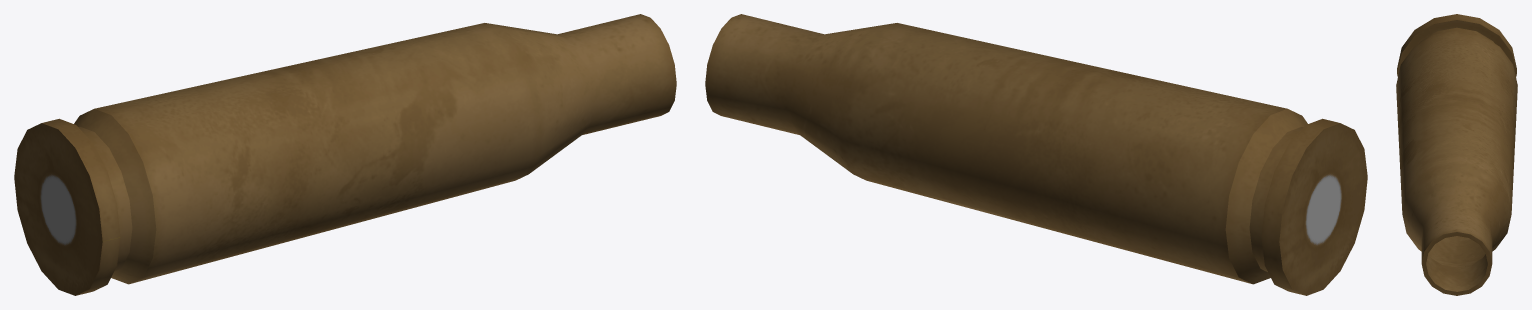
The model's file is vfe-rifle-short.fbx.
3 views of the same model, side by side, from view 1: azimuth 30°, elevation 25°; view 2: azimuth 150°, elevation 25°; view 3: azimuth 270°, elevation 25° (orthographic). The views are drawn at different scales.
Parts seen in each view (by area): view 1: 5.45; view 2: 5.45; view 3: 5.45.
Boxes of the visible parts, x1,y1,x2,y2 form: 5.45: (14,14,676,295); 5.45: (705,14,1367,295); 5.45: (1396,14,1517,295).
Size of the model in its own units: 0.102 by 0.0268 by 0.0268.
Materials: 1 (1 with a texture image).
